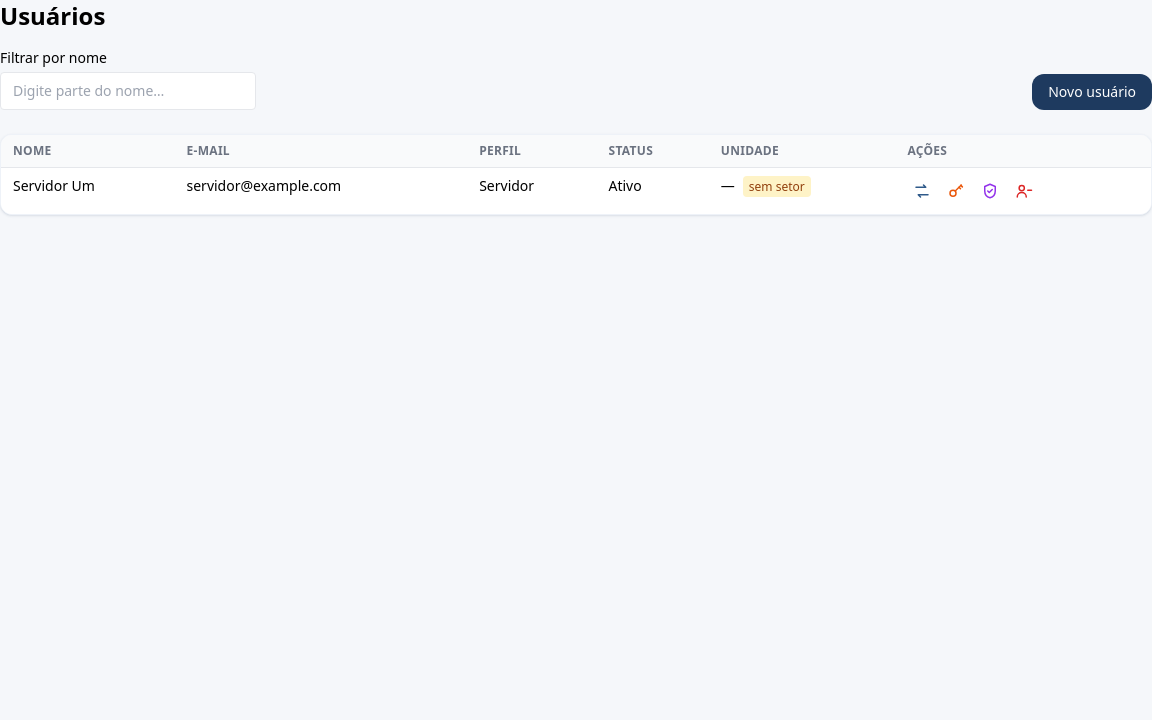
Scenario: AdminUsuariosPage — ações de auditoria e desativação (US 8.3/8.4) › fecha o modal e recarrega a listagem após um cadastro bem-sucedido
Expected: the text "Servidor Um" is shown, [1,168,174,214]
Click the button "Novo usuário": click(1092, 92) [1032,74,1151,110]
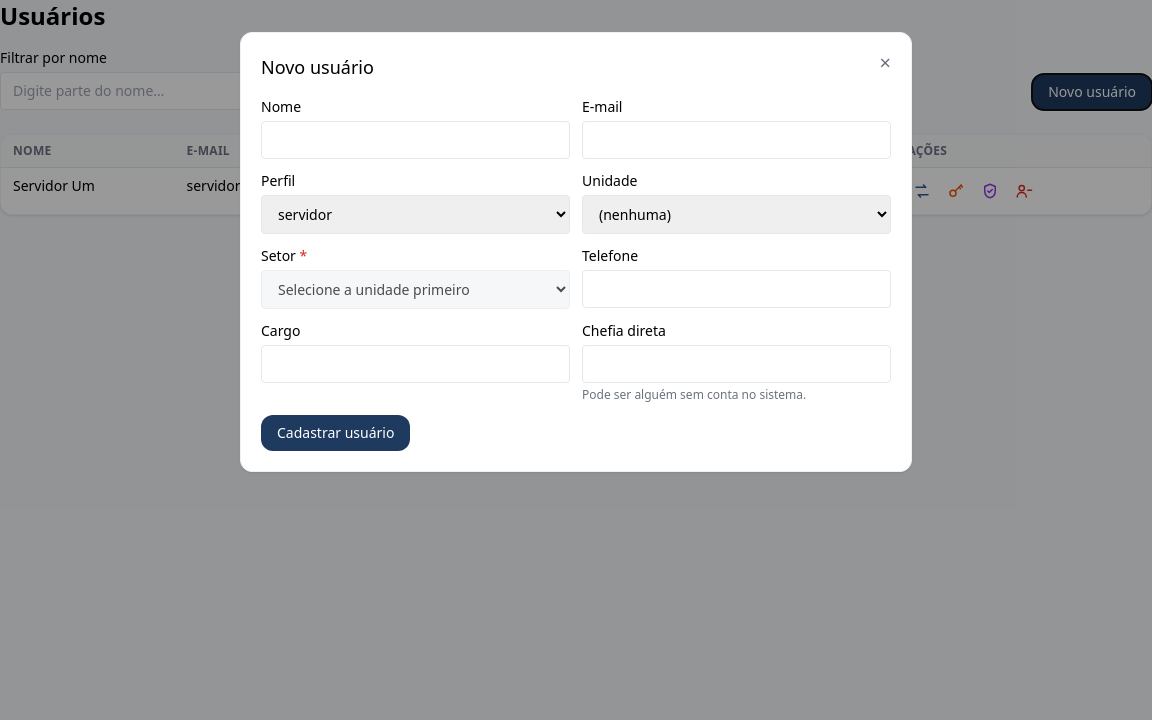
In the field labelled "Nome": (416, 140) [261,121,570,159], type "Maria Silva"
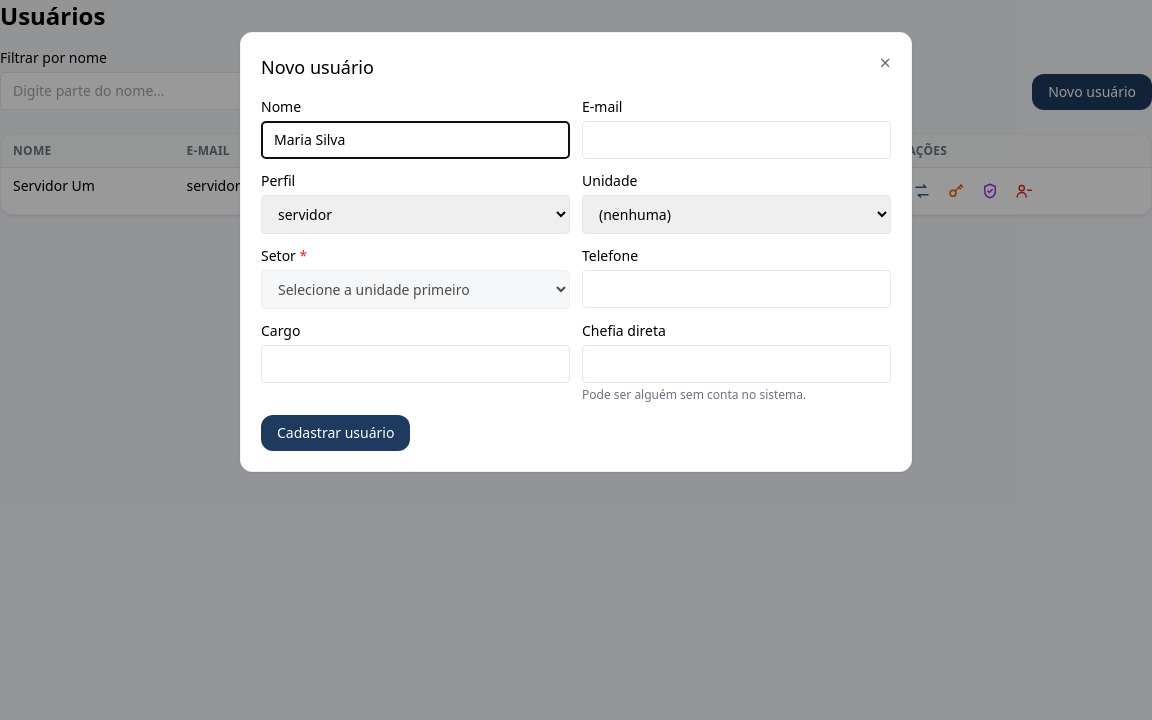
In the field labelled "E-mail": (736, 140) [582,121,891,159], type "maria@example.com"
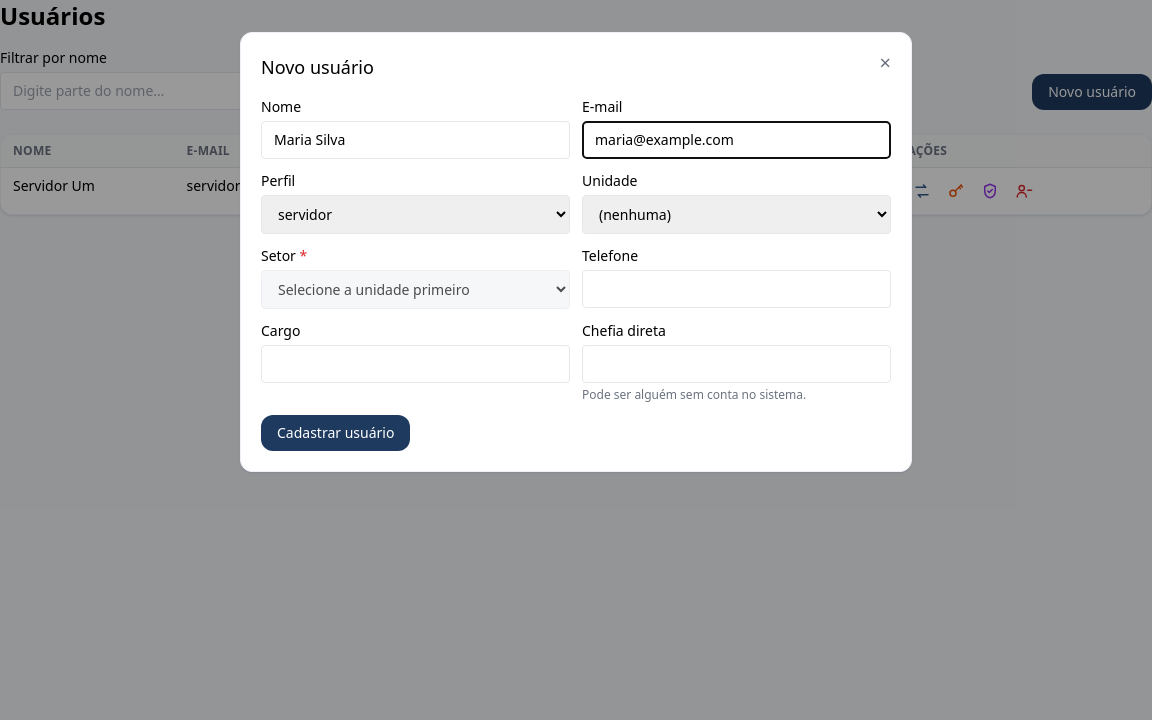
Select "COFIN" in the dropdown labelled "Unidade": (736, 214) [582,195,891,234]
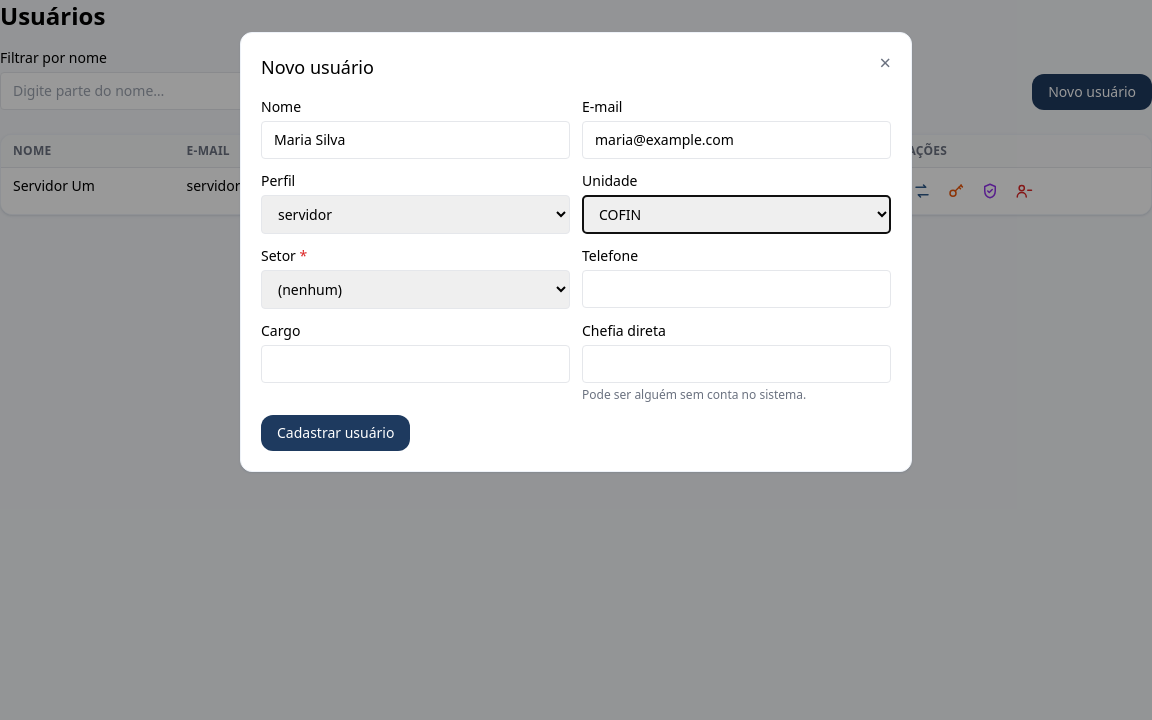
Select "Gabinete (GAB)" in the dropdown labelled "Setor *": (416, 290) [261,270,570,309]
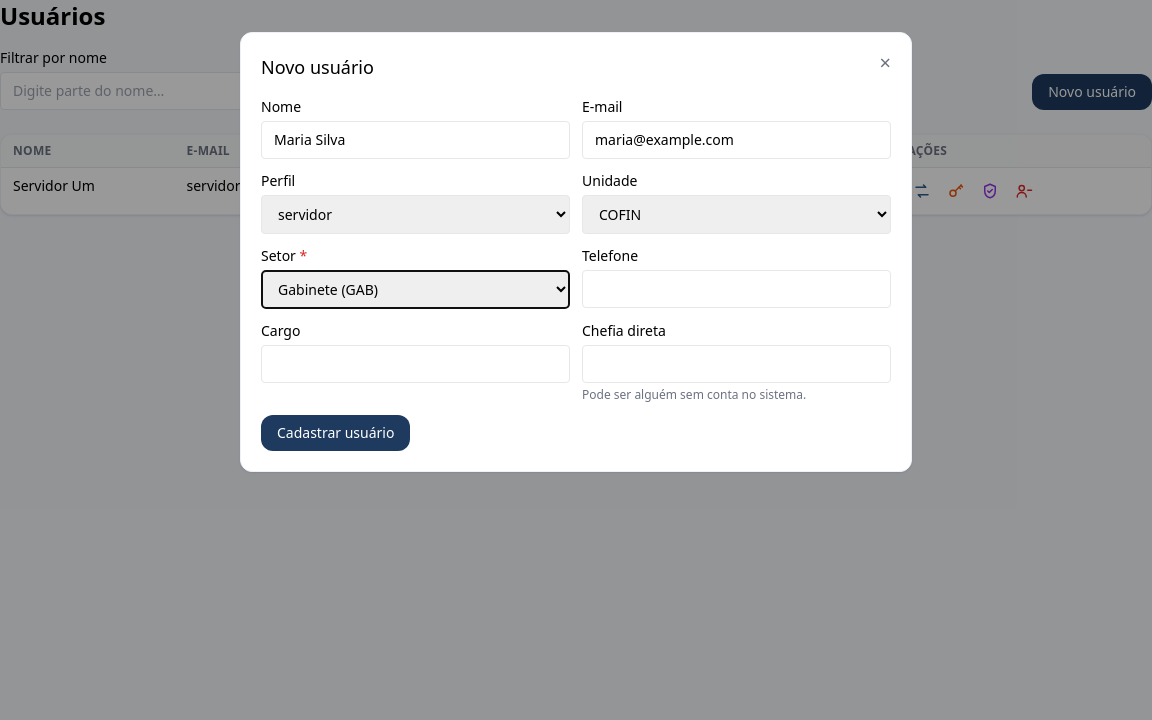
Click the button "Cadastrar usuário": click(336, 433) [261,415,410,451]
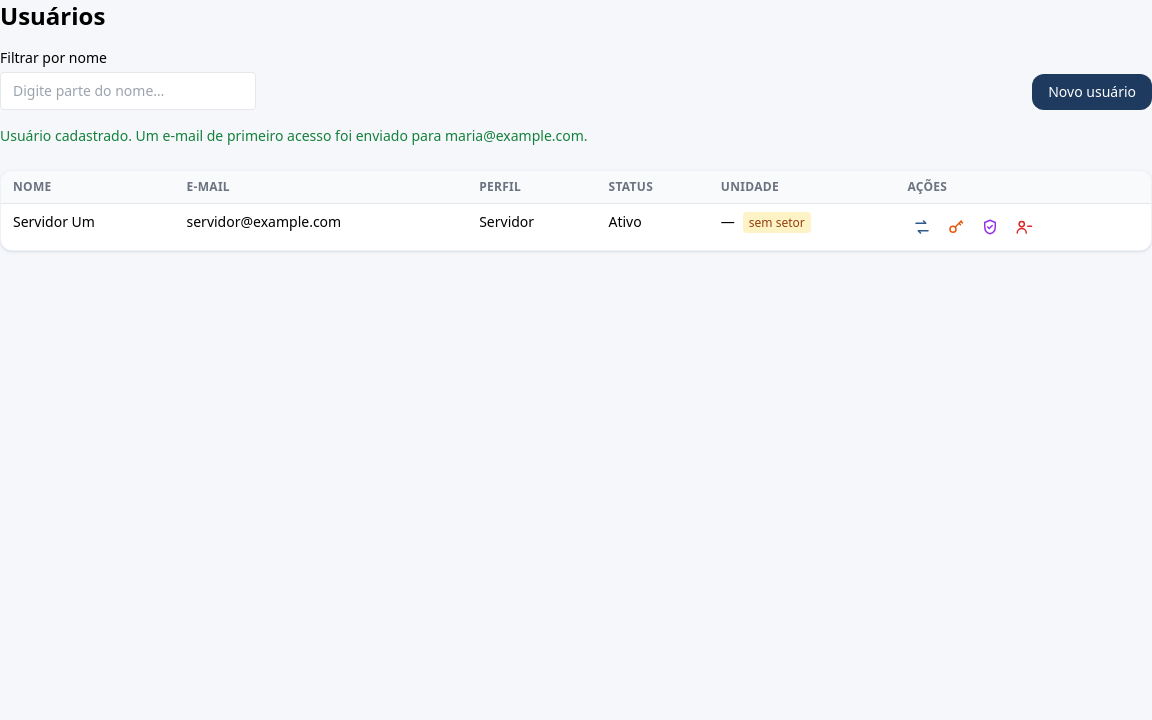
Result: the dialog is gone
